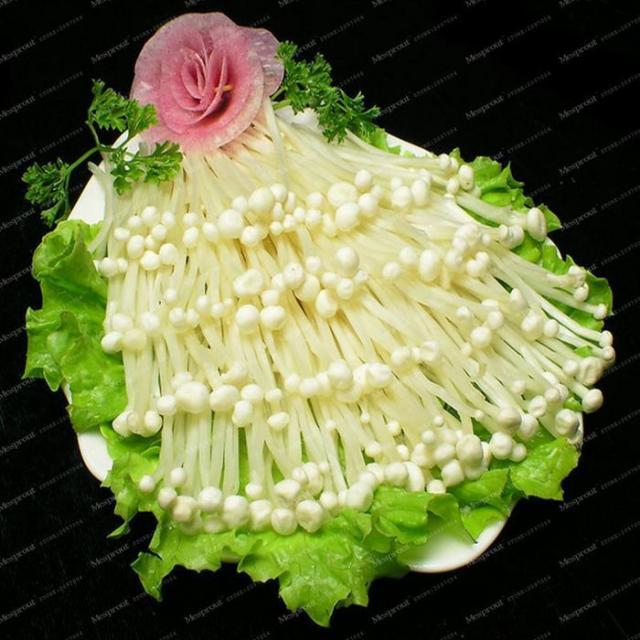Flammulina velutiper: (101, 115, 612, 534)
